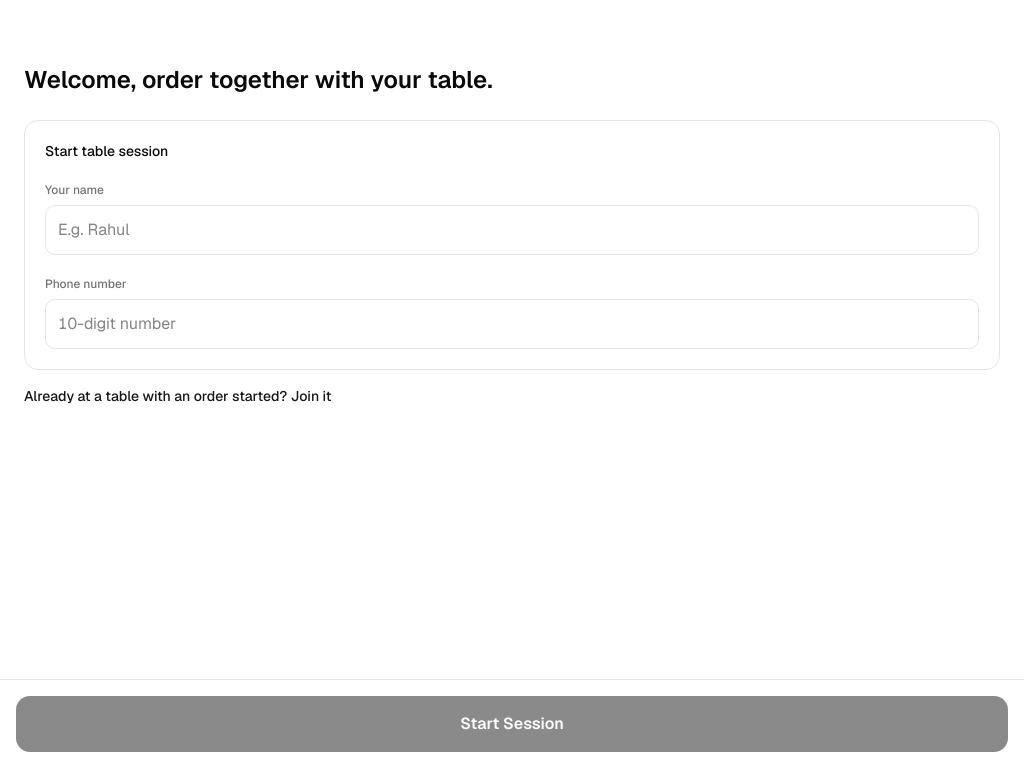
Test: WelcomeFlow › switching to join manually lets a guest join without attempting to start first
Click the button with test id "qr-switch-to-join" at (178,396), box [24,386,331,406]
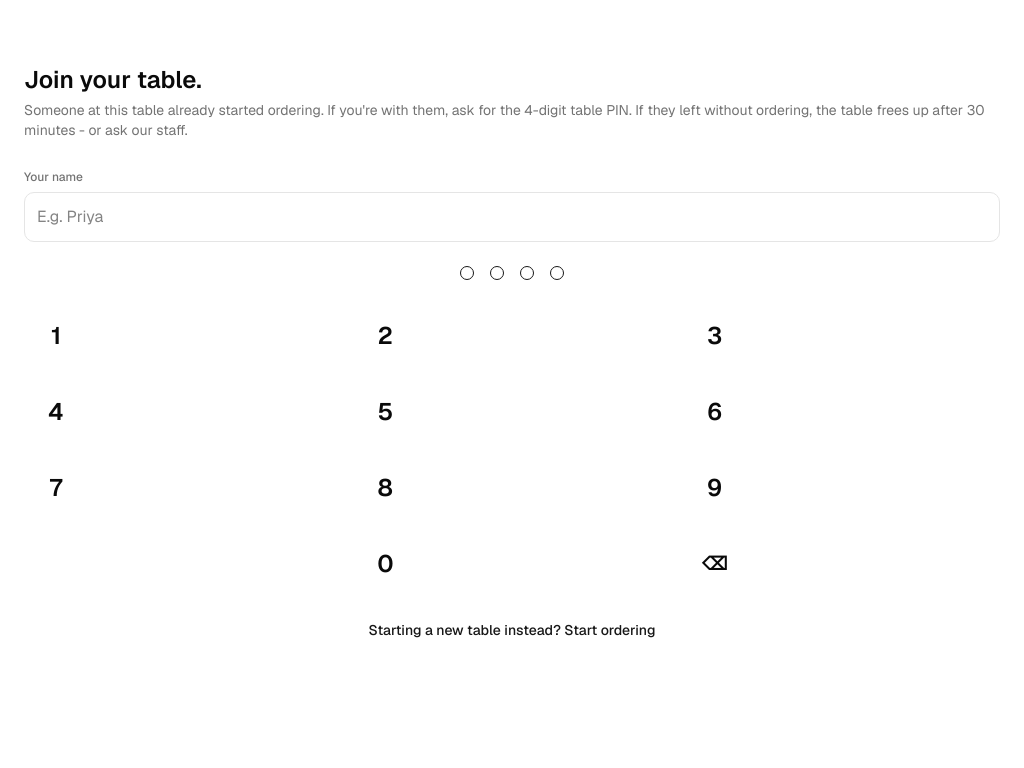
Result: the element with test id "qr-join-form" is shown
Result: the button with test id "qr-join-pin-digit-4" is shown at [24,380,88,444]
